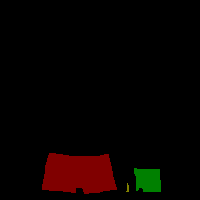mutande: (42, 152, 117, 194), (134, 167, 161, 192), (126, 182, 129, 192)
